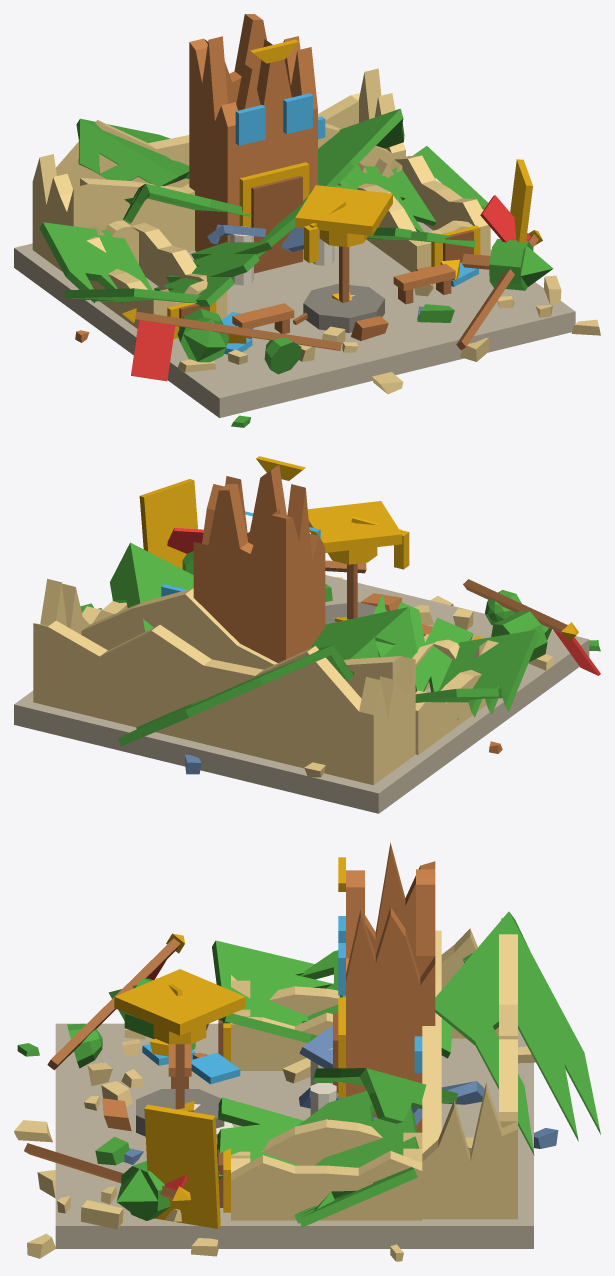
Rendered from university_t3_v2_dmg2.glb.
3 renders of one model, top to bottom at view 1: azimuth 30°, elevation 25°; view 2: azimuth 150°, elevation 25°; view 3: azimuth 270°, elevation 25°, orthographic. The views are drawn at different scales.
Parts seen in each view (by area): view 1: university_t3_v2_dmg2; view 2: university_t3_v2_dmg2; view 3: university_t3_v2_dmg2.
Boxes of the visible parts, box(x1,y1,x2,y2) form: university_t3_v2_dmg2: box(14, 14, 600, 427); university_t3_v2_dmg2: box(14, 456, 600, 813); university_t3_v2_dmg2: box(14, 842, 600, 1261).
Bounding box in the file's own units: 0.9128 × 0.4847 × 0.9203.
Materials: 1 (1 with a texture image).
